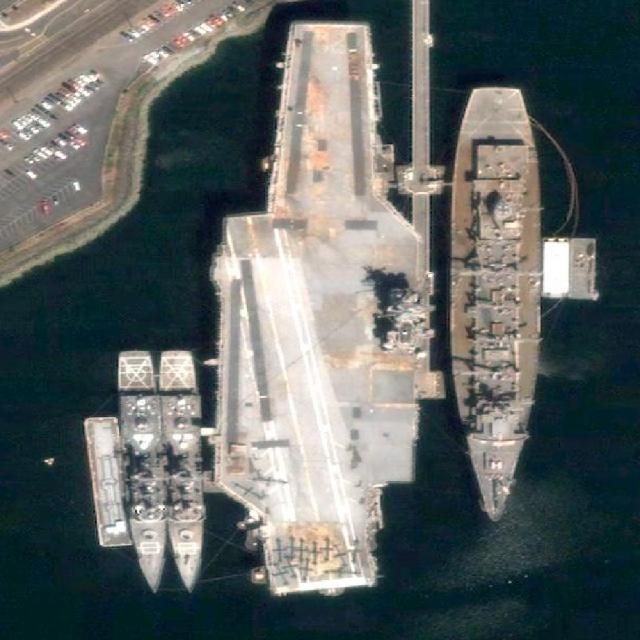Aircraft Carrier: (201, 17, 434, 598)
Auxiliary Ships: (451, 87, 543, 522)
Dock: (411, 1, 429, 372)
Frigate: (117, 345, 169, 598), (158, 344, 210, 595)
